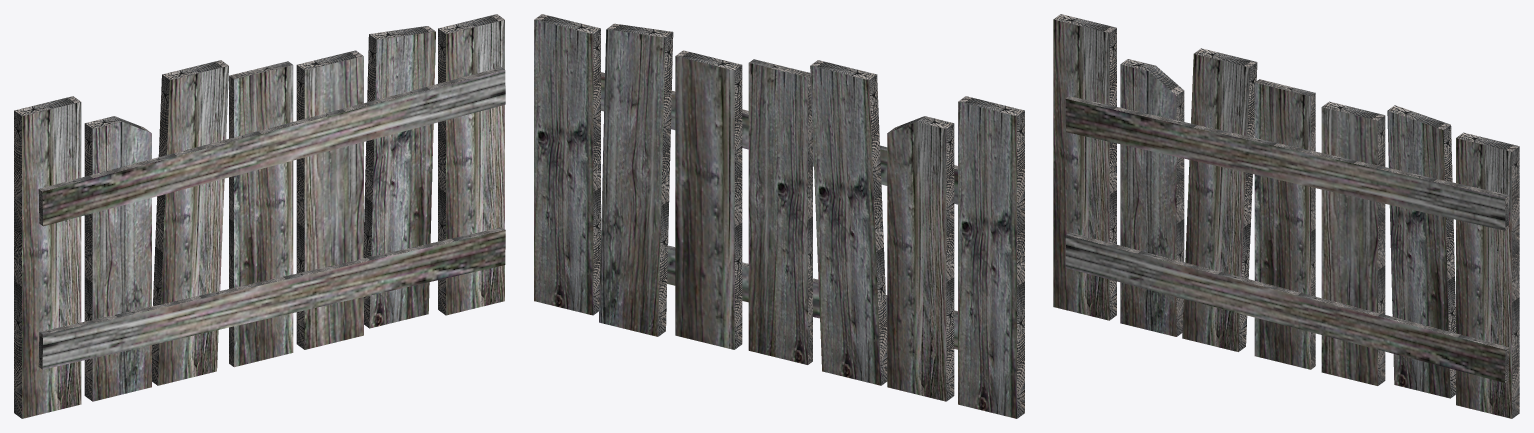
File: fence.fbx
3 renders of one model, left to right at view 1: azimuth 30°, elevation 25°; view 2: azimuth 150°, elevation 25°; view 3: azimuth 330°, elevation 25°, orthographic. The views are drawn at different scales.
Visible parts, largest first — view 1: polySurface1; view 2: polySurface1; view 3: polySurface1.
Boxes of the visible parts, x1=… form: polySurface1: x1=14, y1=14, x2=505, y2=418; polySurface1: x1=534, y1=14, x2=1024, y2=418; polySurface1: x1=1053, y1=14, x2=1519, y2=418.
Size of the model in its own units: 18.62 by 11.15 by 1.17.
Materials: 1 (1 with a texture image).
